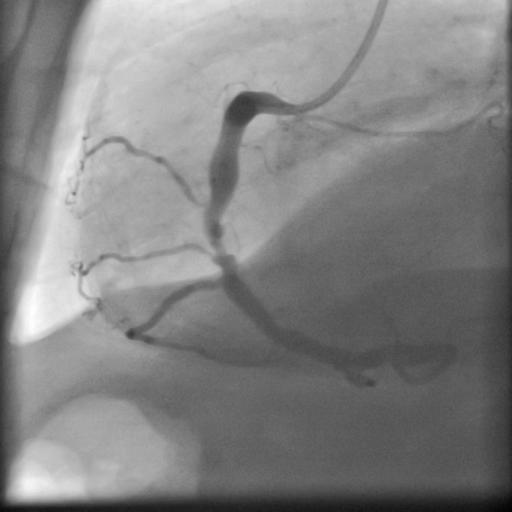Stenosis: (206, 228, 235, 263)
